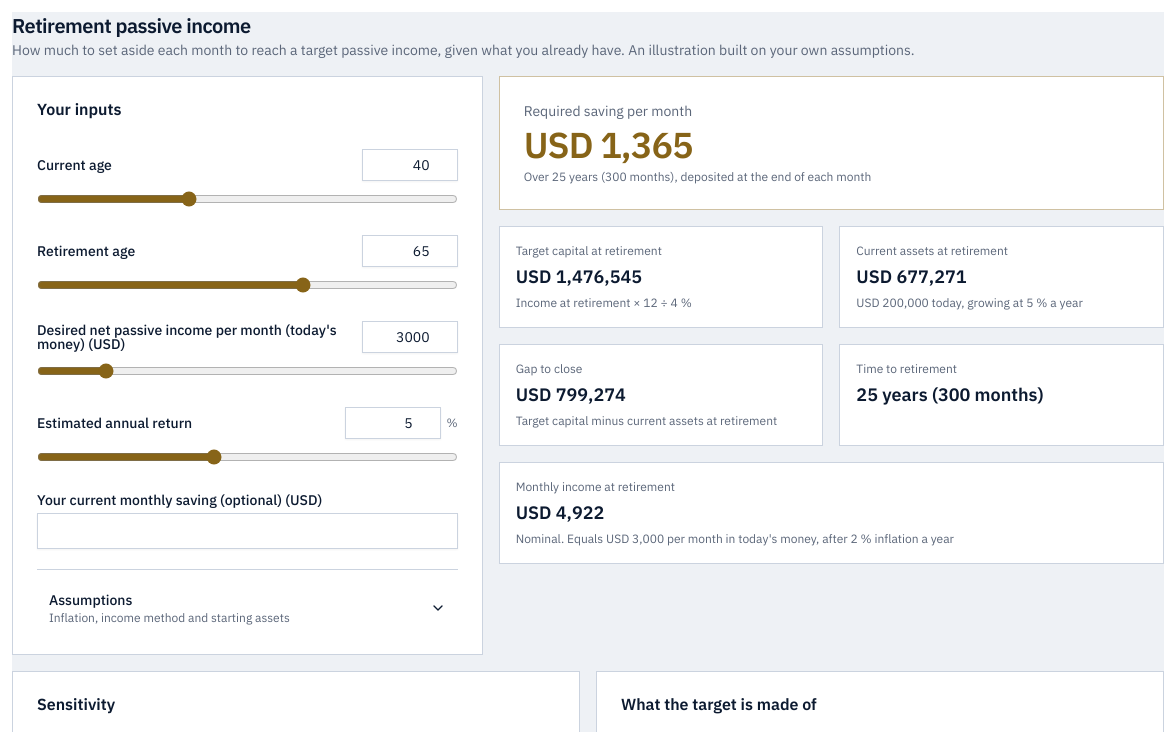
it: sliders and fields › a slider updates its numeric field and the result
Set the slider named "retirement age" to "70" at [339, 285], box x1=37 y1=275 x2=458 y2=295
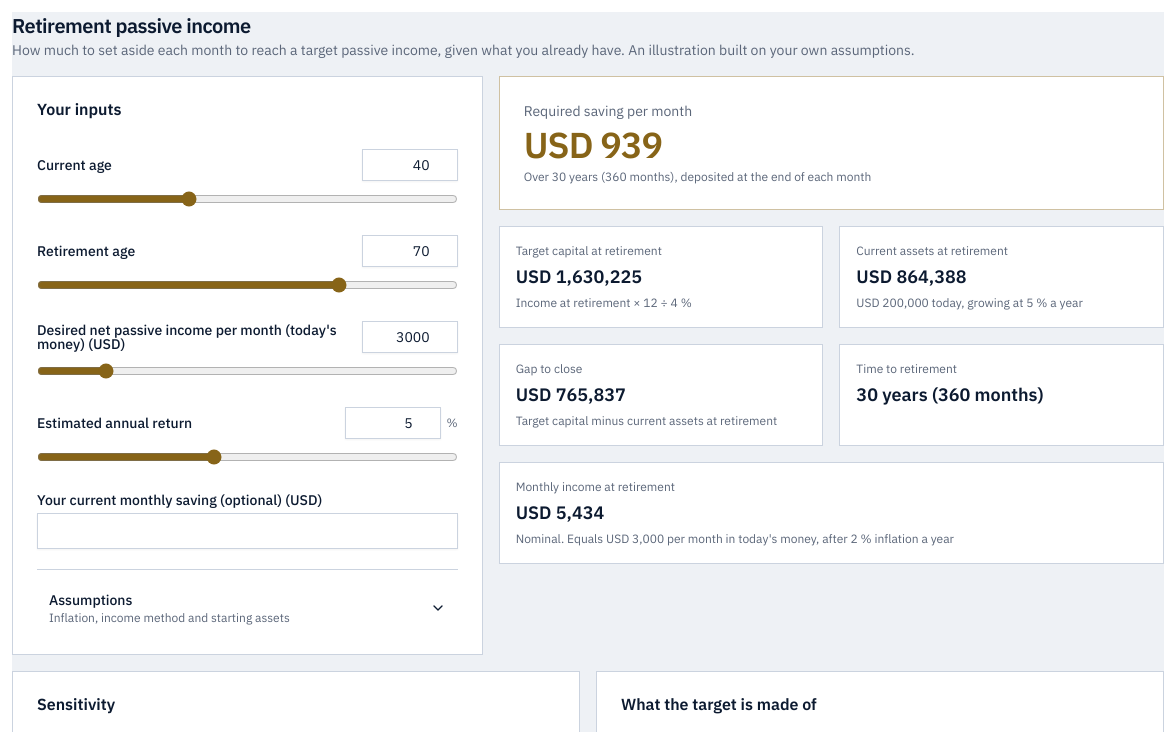
Expected: the number field labelled "Retirement age" holds "70", x1=362 y1=235 x2=458 y2=267
Expected: the text with test id "ret-time" shows "30 years", x1=856 y1=383 x2=1044 y2=406
